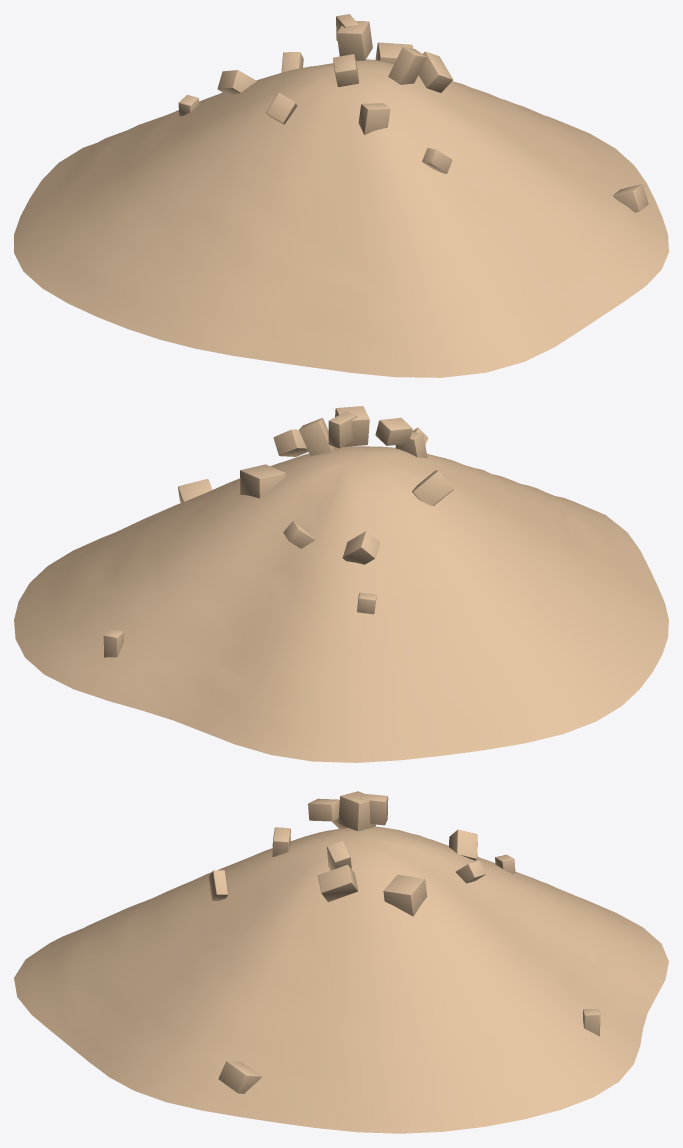
Rendered from TER-SOL-003_lod1.glb.
3 renders of one model, top to bottom at view 1: azimuth 30°, elevation 25°; view 2: azimuth 150°, elevation 25°; view 3: azimuth 270°, elevation 25°, orthographic. The views are drawn at different scales.
Visible parts, largest first — view 1: TER-SOL-003_monte, TER-SOL-003_caco12, TER-SOL-003_caco0, TER-SOL-003_caco3, TER-SOL-003_caco4, TER-SOL-003_caco8, TER-SOL-003_caco6, TER-SOL-003_caco9, TER-SOL-003_caco13; view 2: TER-SOL-003_monte, TER-SOL-003_caco5, TER-SOL-003_caco0, TER-SOL-003_caco6, TER-SOL-003_caco13, TER-SOL-003_caco8, TER-SOL-003_caco7, TER-SOL-003_caco12, TER-SOL-003_caco3, TER-SOL-003_caco10; view 3: TER-SOL-003_monte, TER-SOL-003_caco5, TER-SOL-003_caco12, TER-SOL-003_caco3, TER-SOL-003_caco9, TER-SOL-003_caco6, TER-SOL-003_caco8, TER-SOL-003_caco7, TER-SOL-003_caco0, TER-SOL-003_caco11.
Part boxes in pixels (x1,y1,x2,y2): TER-SOL-003_monte: [14, 59, 668, 377]; TER-SOL-003_caco12: [337, 21, 372, 60]; TER-SOL-003_caco0: [388, 47, 426, 84]; TER-SOL-003_caco3: [418, 51, 453, 92]; TER-SOL-003_caco4: [358, 103, 390, 134]; TER-SOL-003_caco8: [333, 54, 359, 86]; TER-SOL-003_caco6: [217, 70, 256, 95]; TER-SOL-003_caco9: [613, 184, 648, 212]; TER-SOL-003_caco13: [266, 93, 297, 124]; TER-SOL-003_monte: [14, 446, 668, 762]; TER-SOL-003_caco5: [240, 464, 285, 498]; TER-SOL-003_caco0: [299, 418, 336, 456]; TER-SOL-003_caco6: [342, 531, 380, 564]; TER-SOL-003_caco13: [412, 470, 453, 505]; TER-SOL-003_caco8: [375, 417, 412, 445]; TER-SOL-003_caco7: [328, 411, 357, 448]; TER-SOL-003_caco12: [335, 406, 369, 446]; TER-SOL-003_caco3: [273, 429, 308, 456]; TER-SOL-003_caco10: [283, 521, 315, 548]; TER-SOL-003_monte: [14, 826, 668, 1133]; TER-SOL-003_caco5: [383, 874, 427, 916]; TER-SOL-003_caco12: [338, 791, 375, 831]; TER-SOL-003_caco3: [317, 864, 358, 902]; TER-SOL-003_caco9: [218, 1061, 261, 1093]; TER-SOL-003_caco6: [449, 829, 477, 860]; TER-SOL-003_caco8: [308, 798, 339, 821]; TER-SOL-003_caco7: [359, 793, 388, 825]; TER-SOL-003_caco0: [327, 841, 351, 870]; TER-SOL-003_caco11: [208, 870, 228, 900].
Bounding box in the file's own units: 1.83 × 0.6328 × 1.85.
